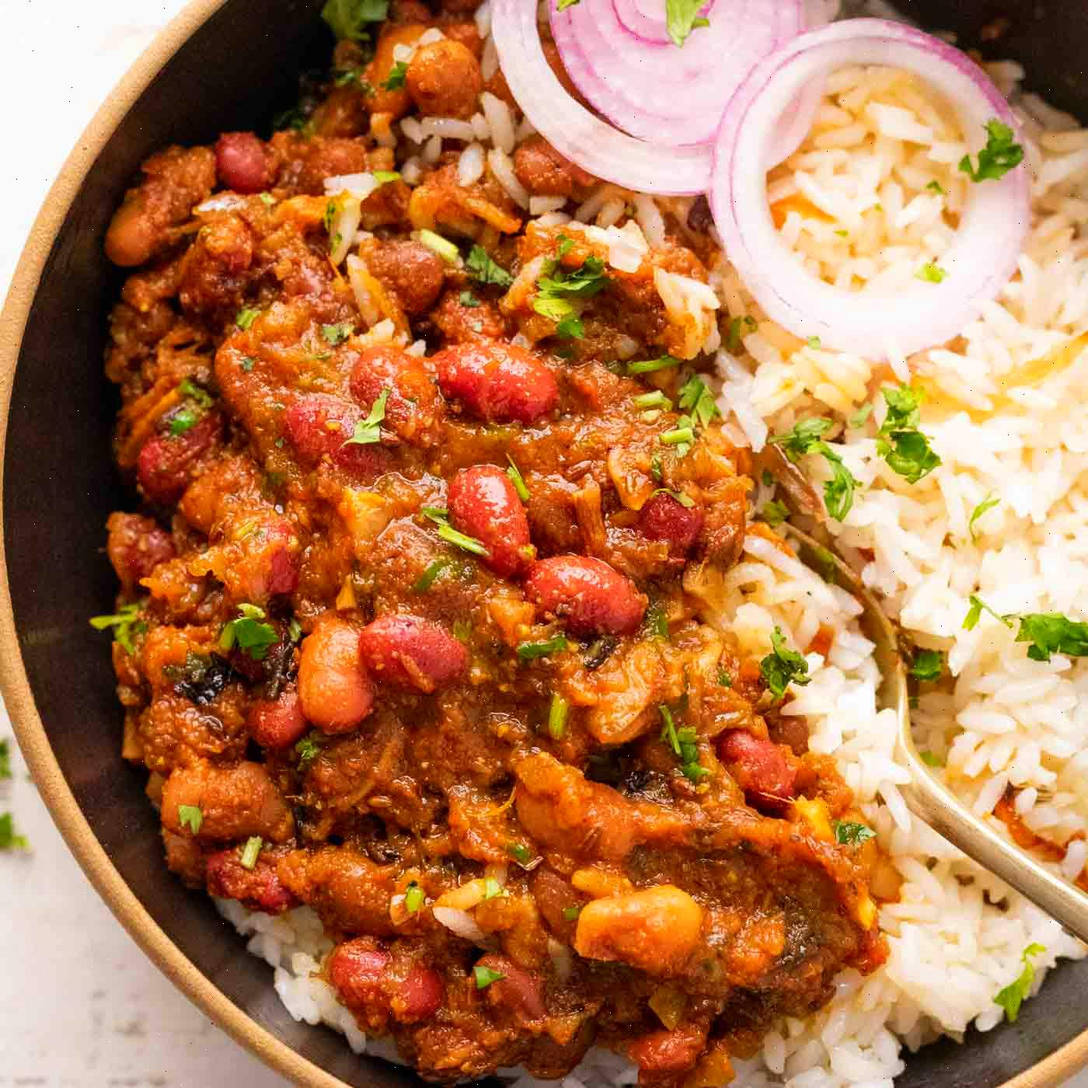rajma: (101, 161, 733, 1031)
rice: (800, 228, 1088, 816)
